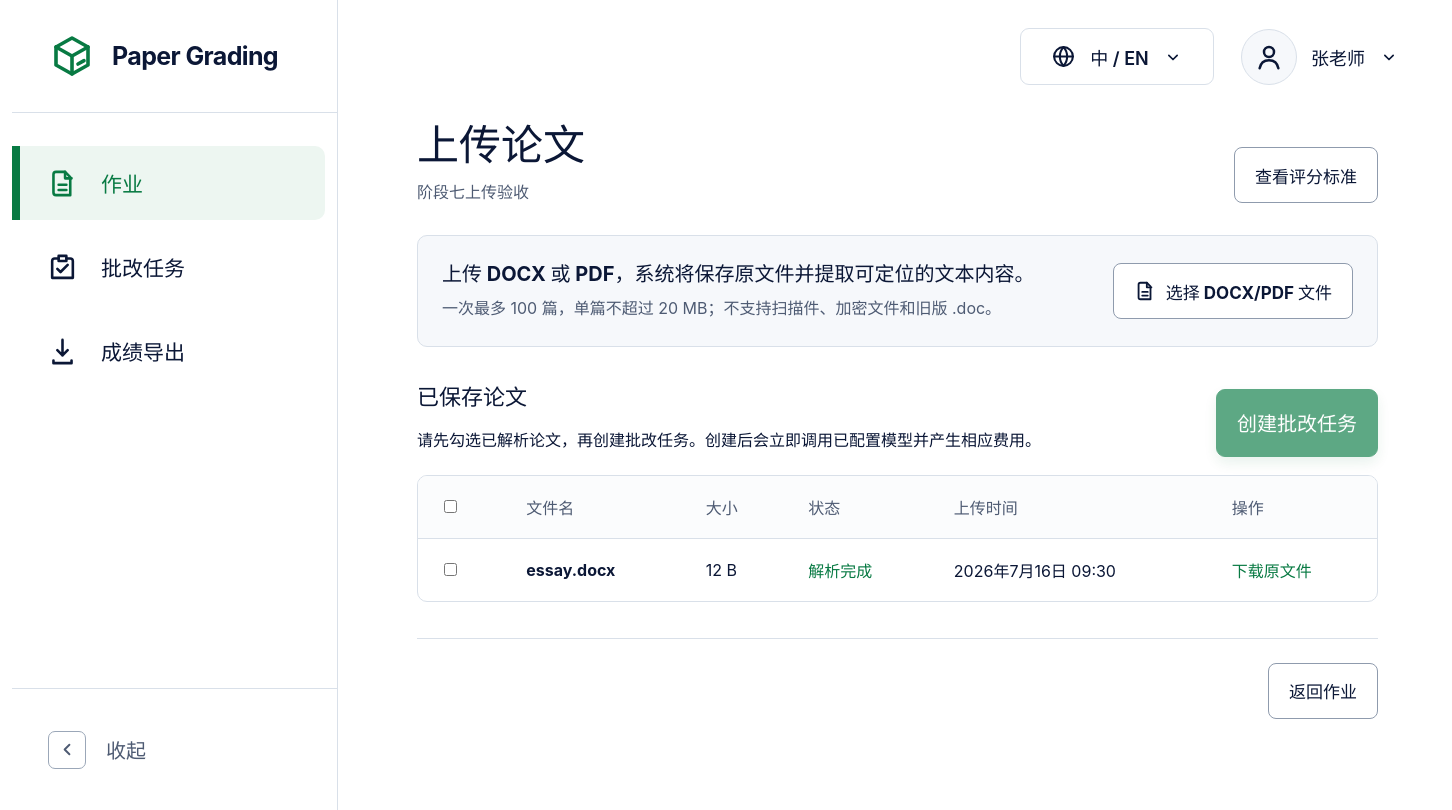
Test: 阶段七论文上传 › shows a safe message when the database quota blocks a new grading job
expect the text "essay.docx" is shown: met, box x1=526 y1=560 x2=615 y2=580
Click the checkbox named "选择 essay.docx": point(450, 569) x1=444 y1=563 x2=457 y2=576
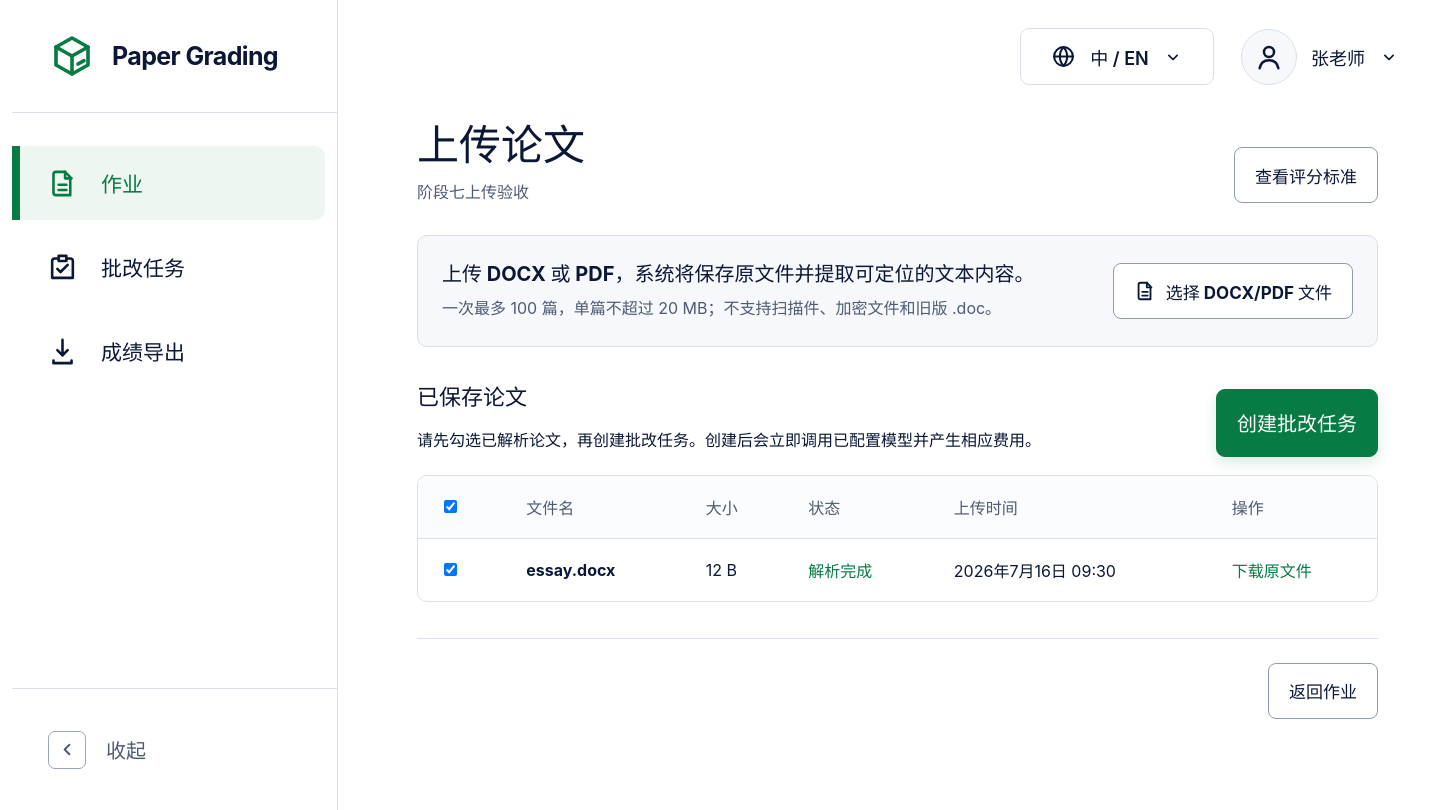
Click the button "创建批改任务": point(1297, 423) x1=1216 y1=389 x2=1378 y2=457
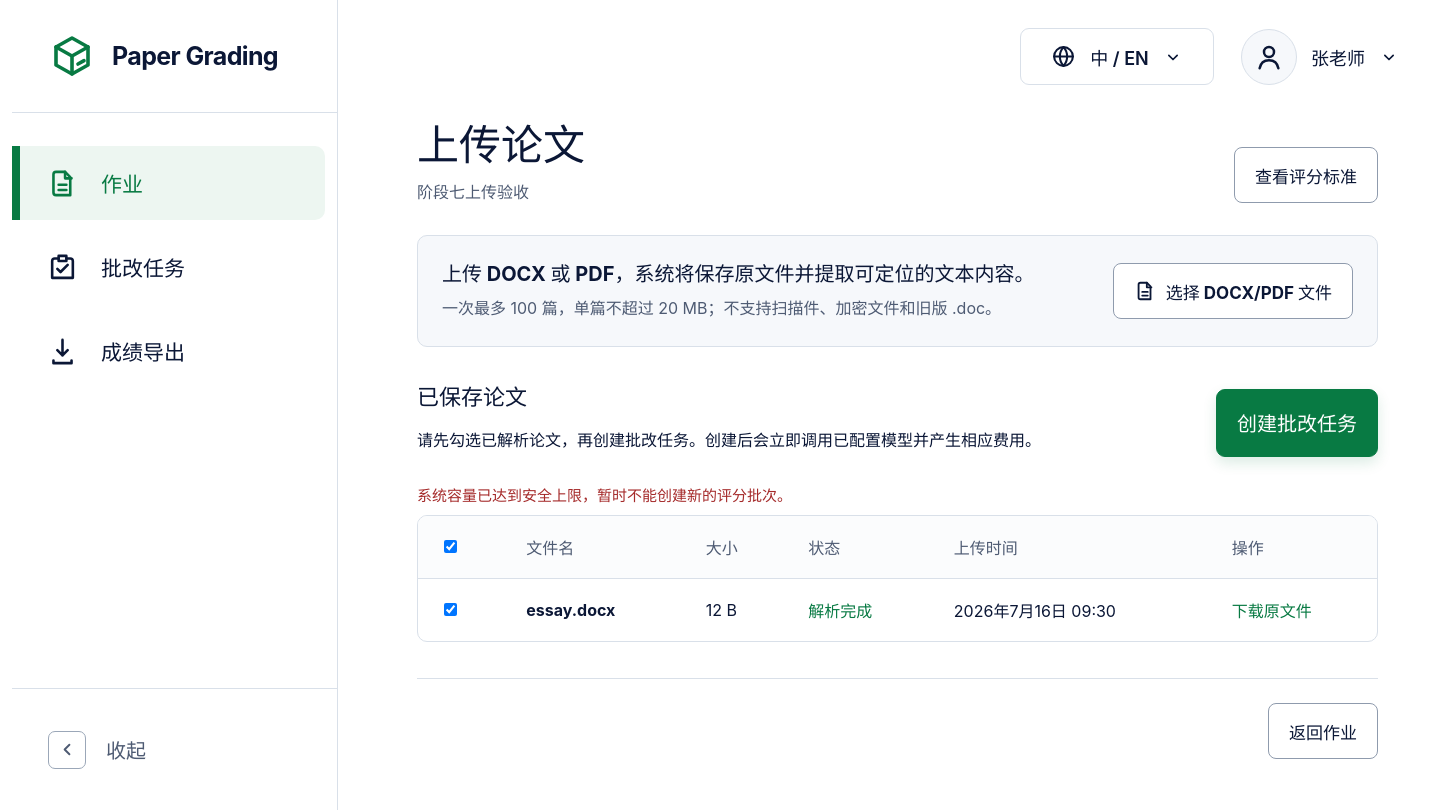
expect the text "系统容量已达到安全上限，暂时不能创建新的评分批次。" is shown: met, box x1=417 y1=486 x2=792 y2=505
